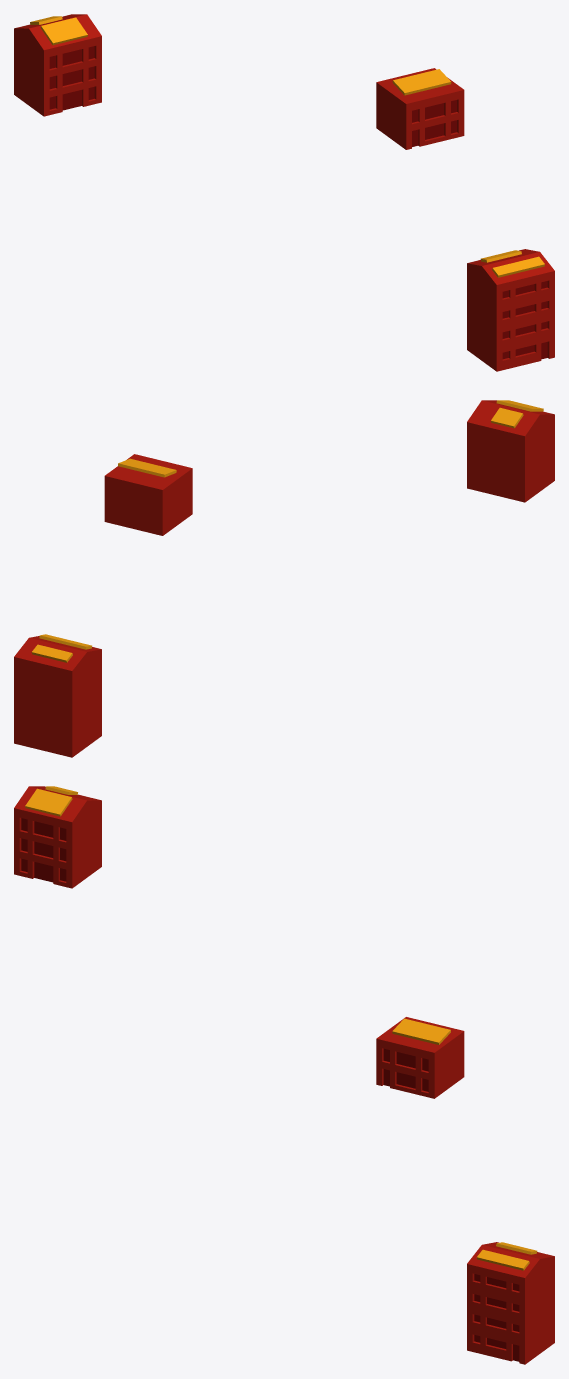
File: BinaGrup10.gltf
3 views of the same model, one above another, from view 1: azimuth 30°, elevation 25°; view 2: azimuth 150°, elevation 25°; view 3: azimuth 330°, elevation 25° (orthographic).
Visible parts, largest first — view 1: Building_061.003, Building_023.003, Building_052.003, Building_023.005, Building_061.005, Building_052_RoofCap_0.001, Building_023_RoofCap_0.001, Building_052.005, Building_061_RoofCap_0.001; view 2: Building_061.003, Building_023.003, Building_052.003, Building_052_RoofCap_0.001, Building_023_RoofCap_1.001; view 3: Building_061.003, Building_023.003, Building_052.003, Building_023.005, Building_061.005, Building_052_RoofCap_0.001, Building_023_RoofCap_0.001, Building_052.005.
Boxes of the visible parts, <box> form: Building_061.003: <box>467,249,554,371</box>; Building_023.003: <box>14,14,101,116</box>; Building_052.003: <box>376,68,464,149</box>; Building_023.005: <box>49,46,94,109</box>; Building_061.005: <box>502,281,547,359</box>; Building_052_RoofCap_0.001: <box>392,69,451,95</box>; Building_023_RoofCap_0.001: <box>40,17,87,45</box>; Building_052.005: <box>412,100,456,139</box>; Building_061_RoofCap_0.001: <box>492,256,544,277</box>; Building_061.003: <box>14,636,101,757</box>; Building_023.003: <box>467,400,554,502</box>; Building_052.003: <box>104,454,192,535</box>; Building_052_RoofCap_0.001: <box>118,458,176,477</box>; Building_023_RoofCap_1.001: <box>491,407,523,428</box>; Building_061.003: <box>467,1242,554,1364</box>; Building_023.003: <box>14,786,101,888</box>; Building_052.003: <box>376,1017,464,1098</box>; Building_023.005: <box>21,818,66,881</box>; Building_061.005: <box>474,1274,519,1348</box>; Building_052_RoofCap_0.001: <box>392,1018,450,1044</box>; Building_023_RoofCap_0.001: <box>25,788,72,816</box>; Building_052.005: <box>383,1048,428,1091</box>.
Size of the model in its own units: 0.4293 by 0.3568 by 0.0435.
